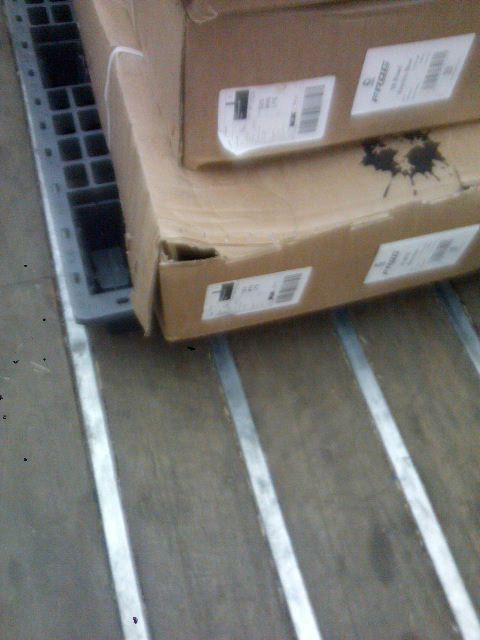label: (351, 37, 474, 122), (216, 78, 329, 155), (201, 263, 314, 326), (364, 224, 479, 285)
package: (71, 0, 480, 345), (130, 0, 480, 166)
